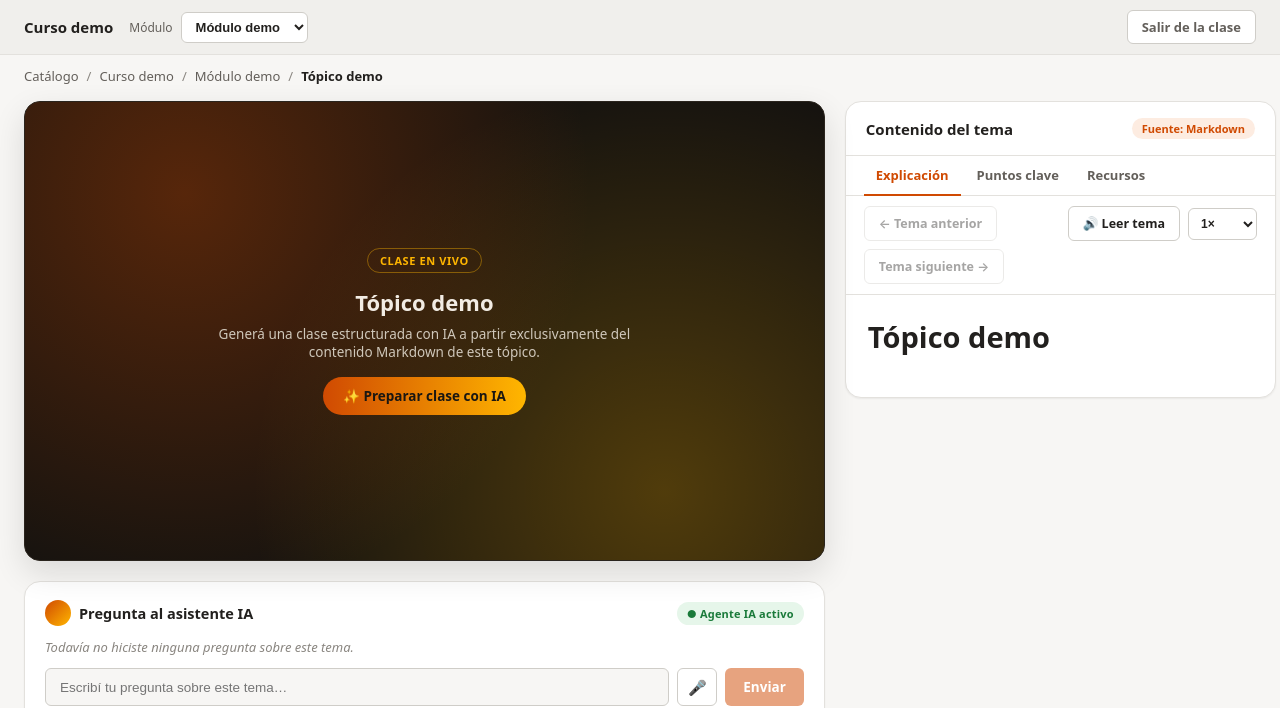
Test: ClassroomPage — v1.1.1 navegación del aula › E: Siguiente funciona (avanza de escena 1 a escena 2)
Click the button "✨ Preparar clase con IA". click: point(424, 396)
box: [323, 376, 526, 414]
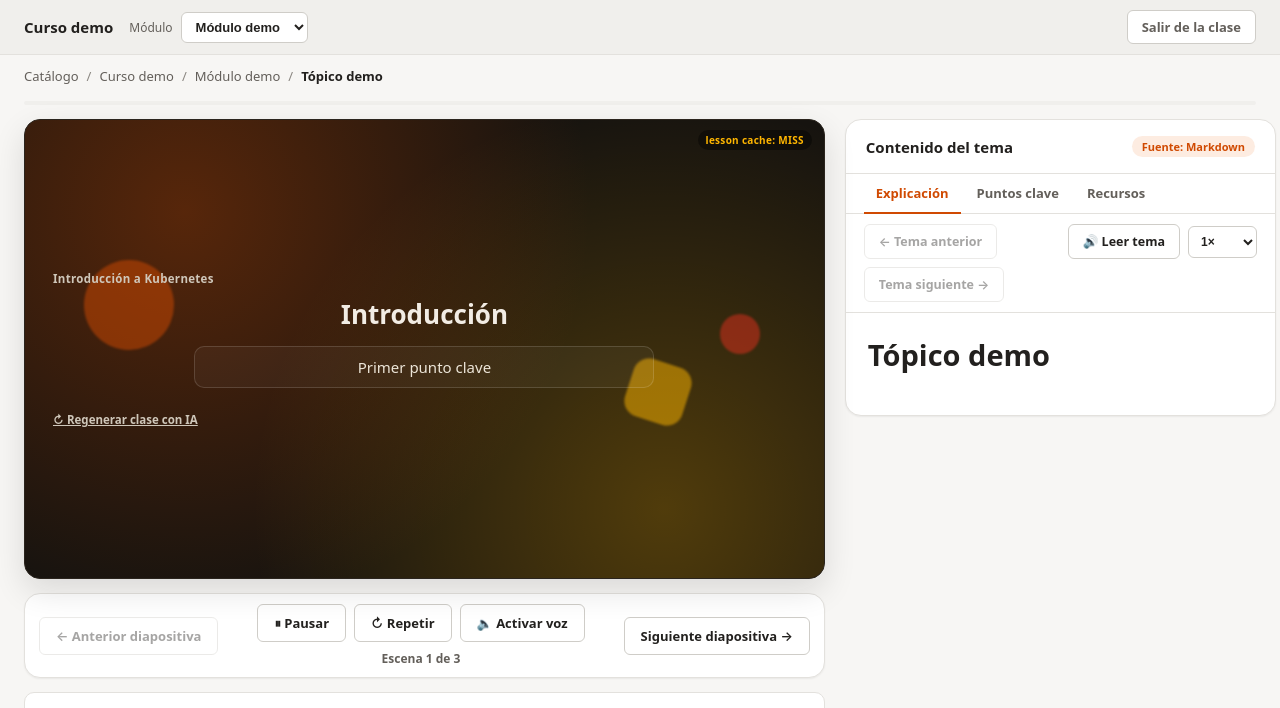
Check: the text "Introducción a Kubernetes" is shown, box [53, 271, 214, 286]
Click the button "Siguiente diapositiva →". click: point(717, 636)
box: [624, 616, 810, 654]
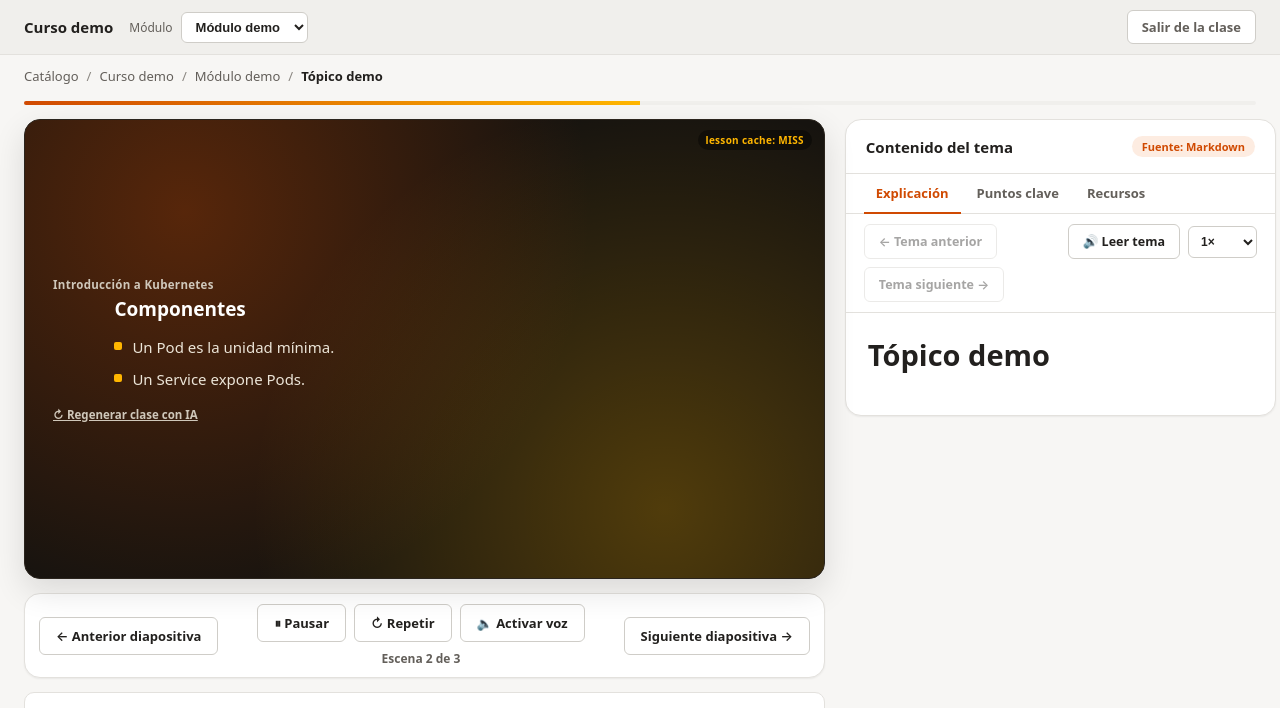
Check: the heading "Componentes" is shown, box [114, 296, 246, 322]
